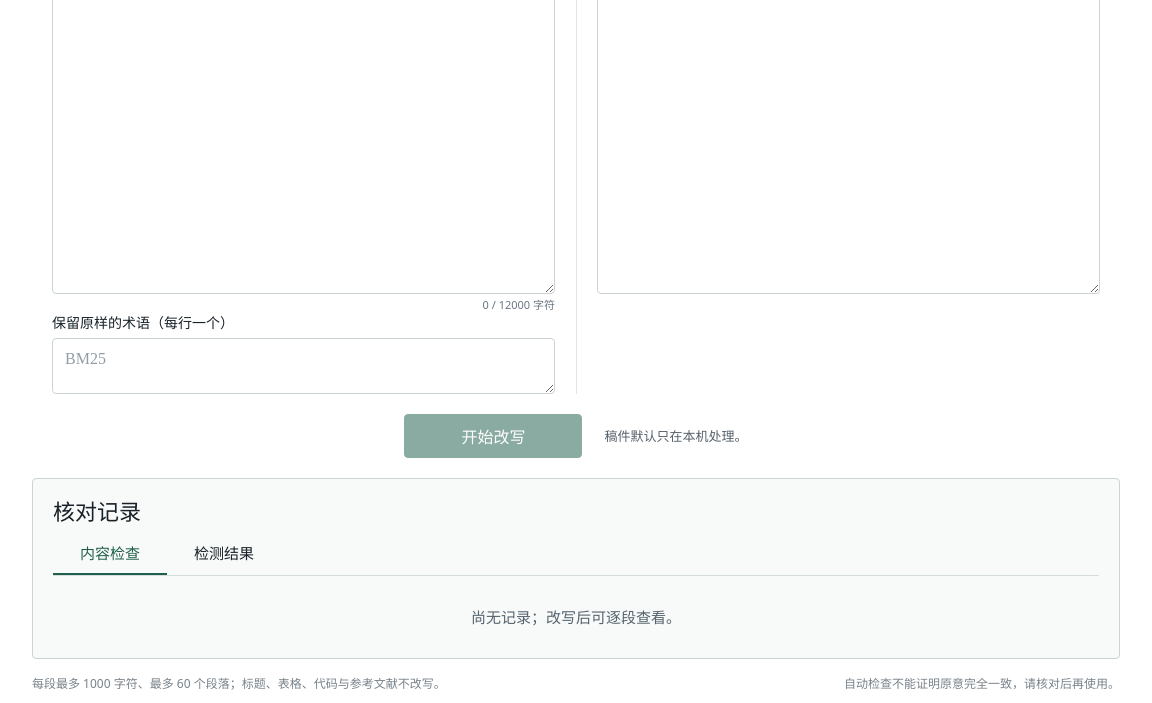
Test: workbench behavior › prevents blank generation and represents detector as not run
The image size is (1152, 703).
(page scrolled)
Check: the button "开始改写" is disabled, box x1=404 y1=414 x2=582 y2=458
Click the tab "检测结果". click: (224, 554)
box: x1=167 y1=533 x2=281 y2=575
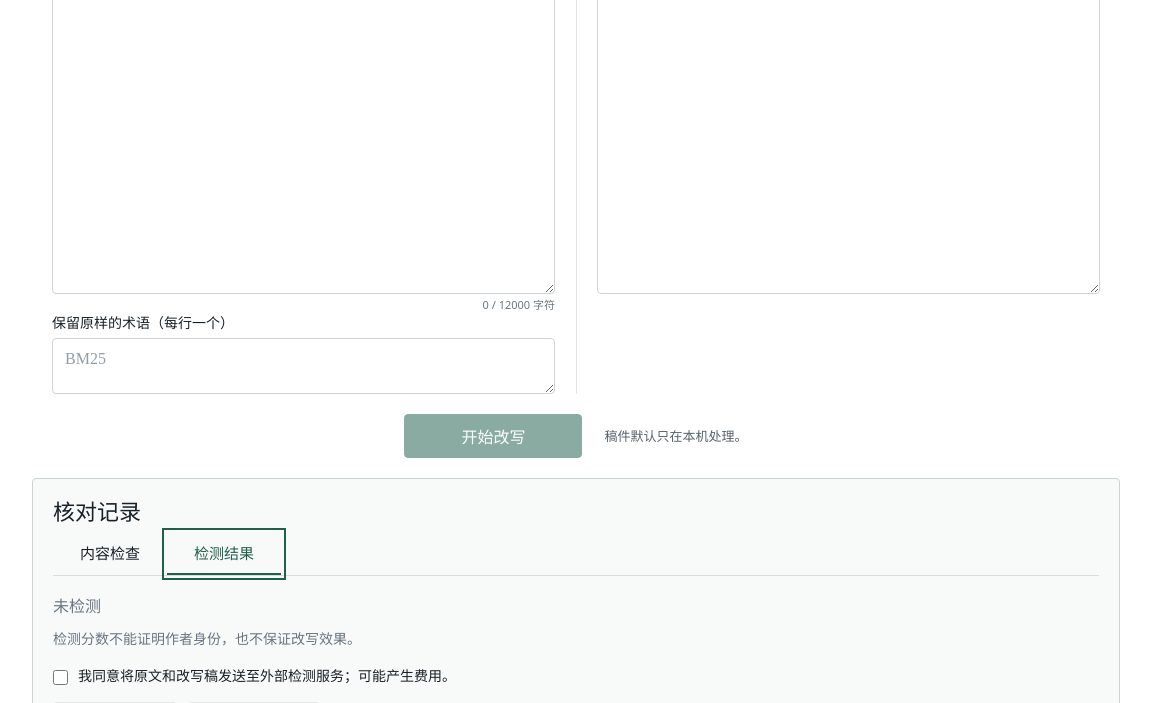
Check: the text "未检测" is shown, box x1=53 y1=595 x2=101 y2=617
